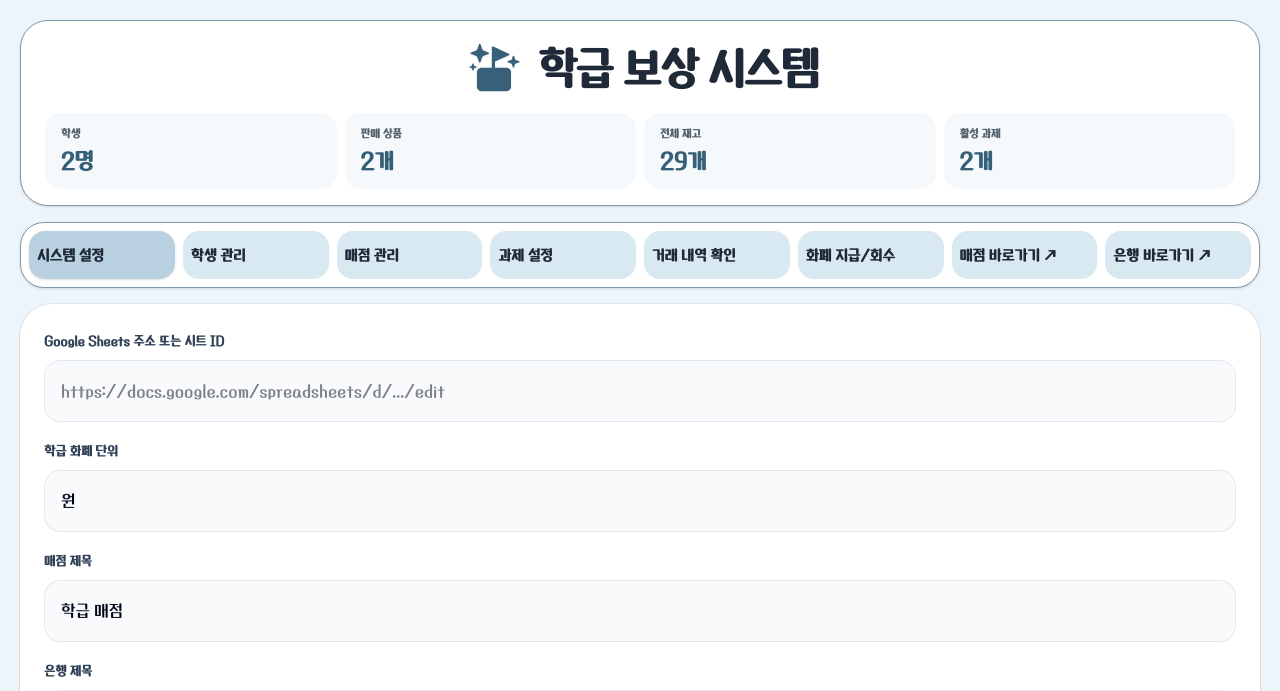
Scenario: AdminManagePage › keeps a failed task deletion confirmation open and retryable
Step 1. Click the tab "과제 설정" → click(563, 255), box [490,231,636,279]
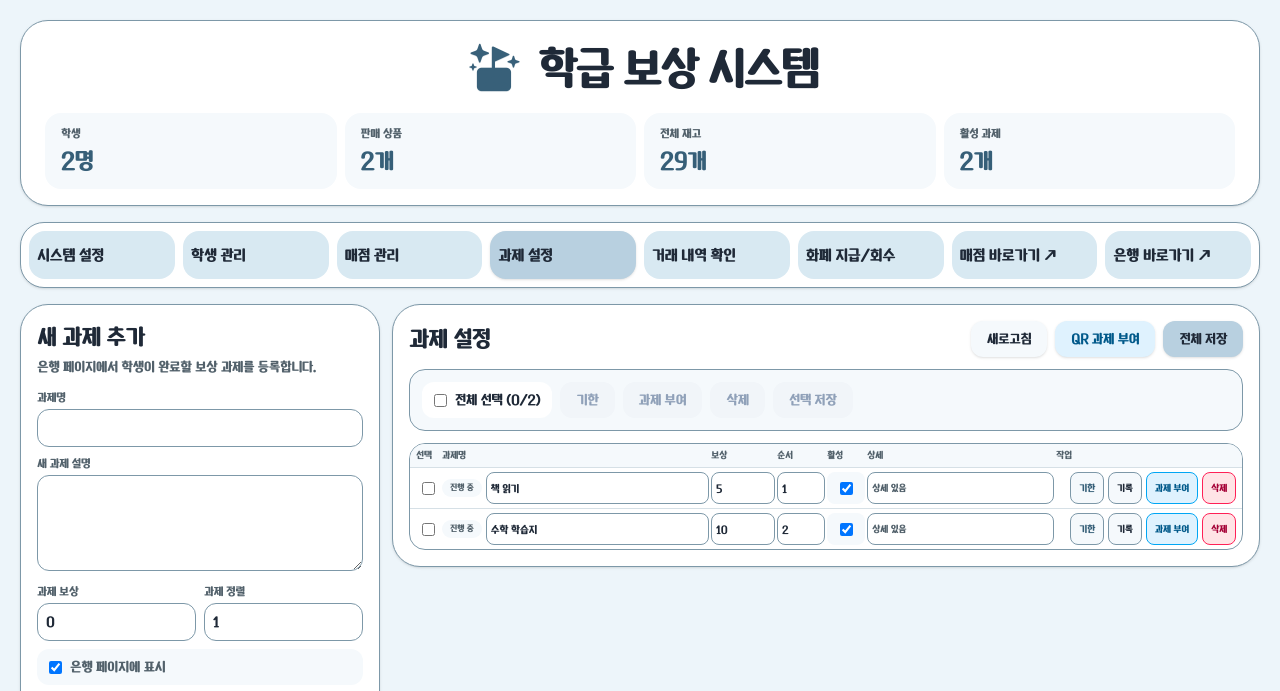
Step 2. Click the button with aria-label "T001 과제 삭제" → click(1219, 488), box [1202,472,1236,504]
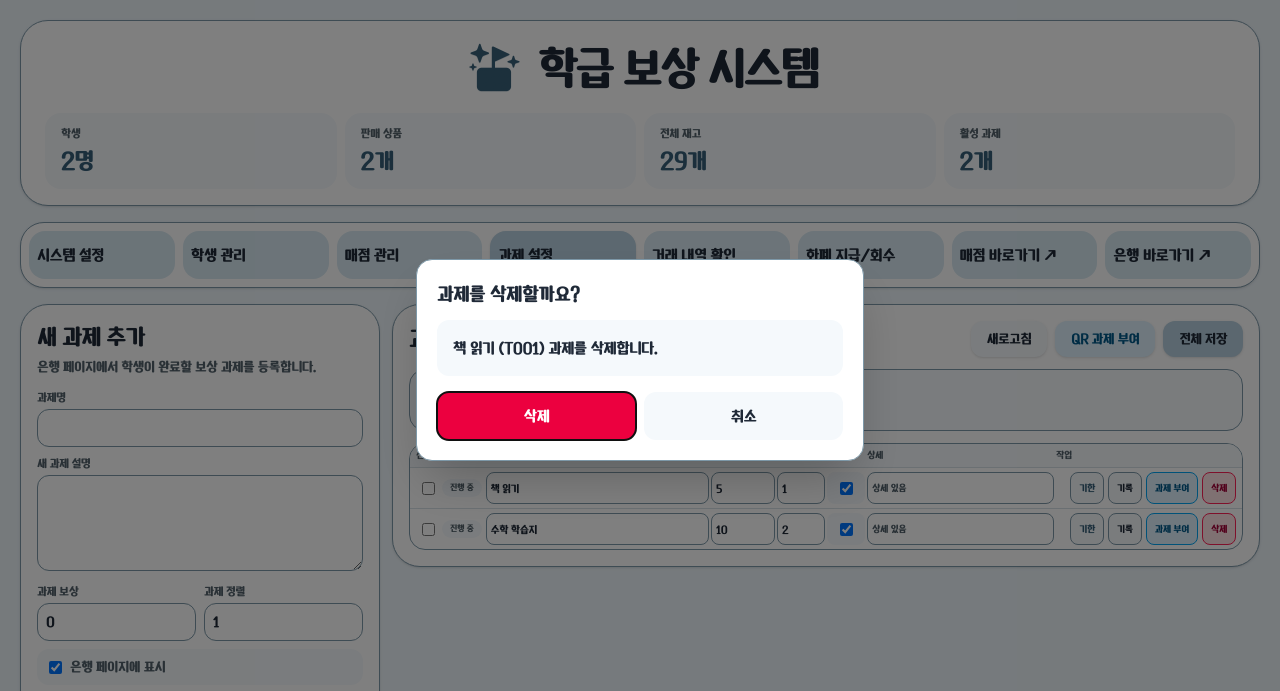
Step 3. Click the button with aria-label "과제 삭제 확인" → click(536, 416), box [437,392,636,440]
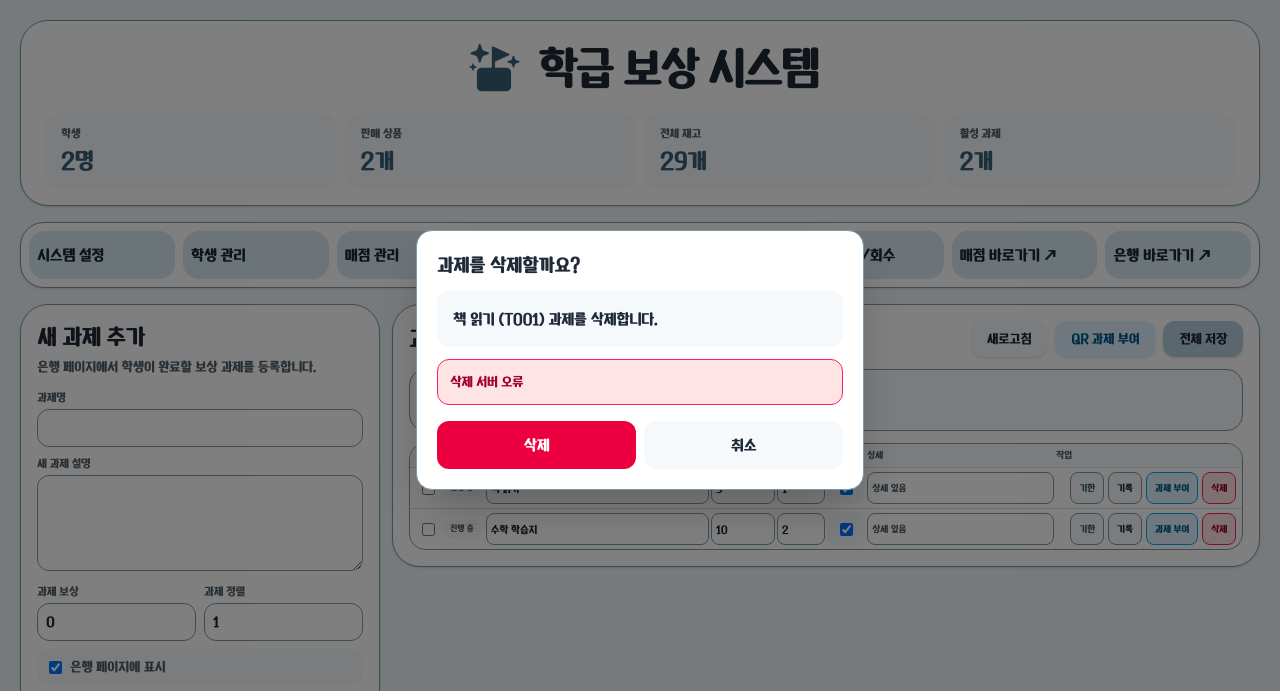
Now the button with aria-label "과제 삭제 확인" is enabled, box [437,421,636,469]
Now the field named "T001 과제명" is shown, box [486,472,709,504]
Now the message reads "삭제 서버 오류", box [450,375,523,389]
